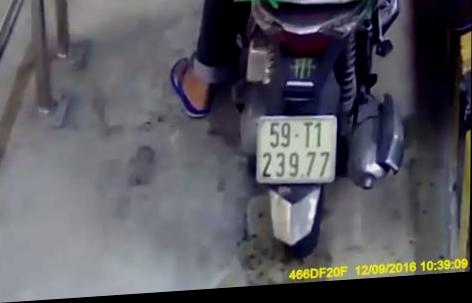License_Plate: (249, 104, 341, 190)
